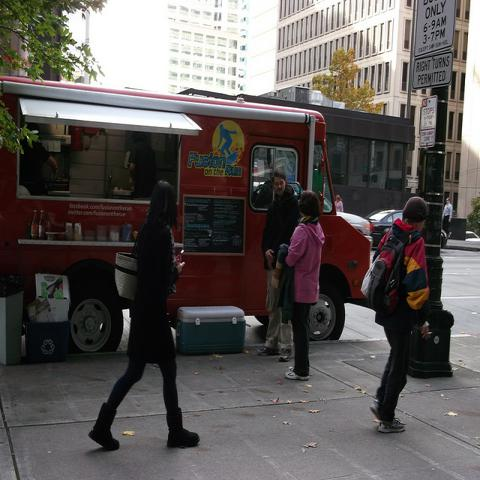car: (363, 209, 402, 247), (445, 231, 479, 251)
truck: (1, 84, 370, 345)
